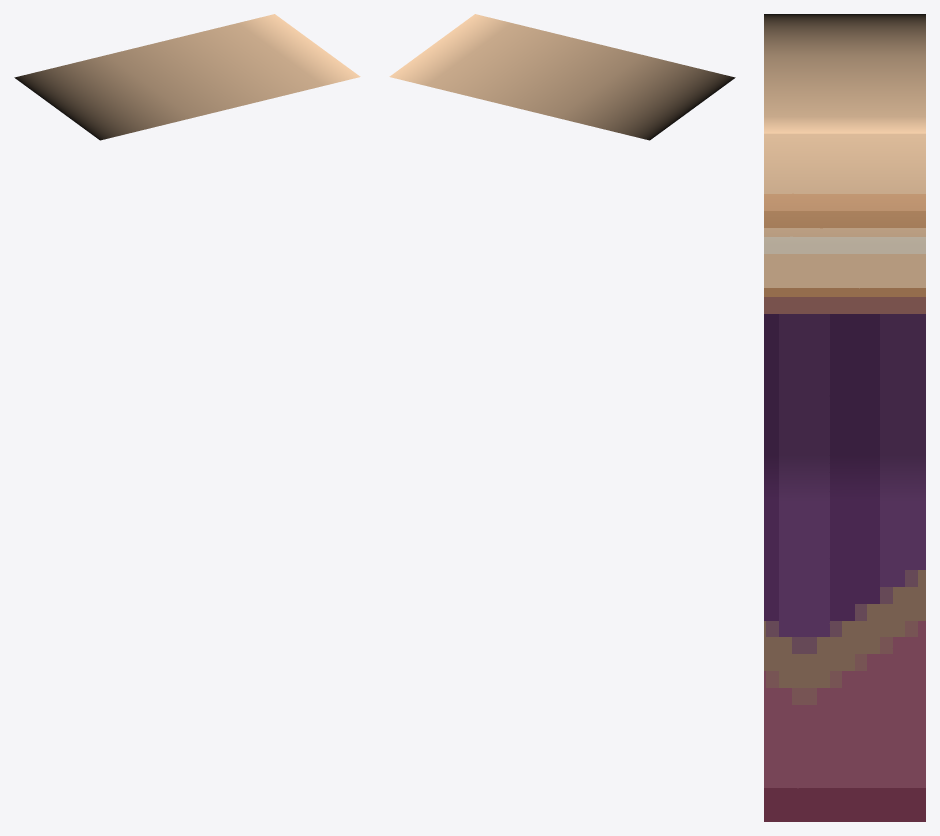
3 views of the same model, side by side, from view 1: azimuth 30°, elevation 25°; view 2: azimuth 150°, elevation 25°; view 3: azimuth 270°, elevation 25° (orthographic). The views are drawn at different scales.
Bounding box in the file's own units: 1.75 × 4.75 × 1.
3 materials, 3 textured.
